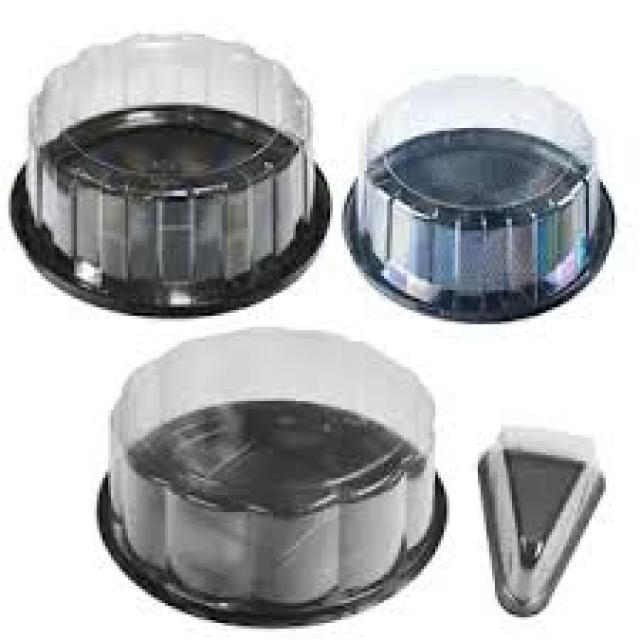disposable: (87, 307, 470, 640), (9, 22, 342, 332), (336, 64, 630, 334)
